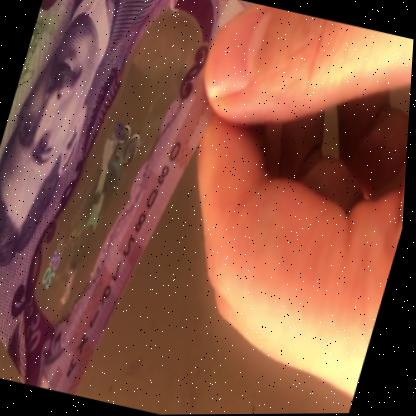50F: (38, 23, 184, 322)
